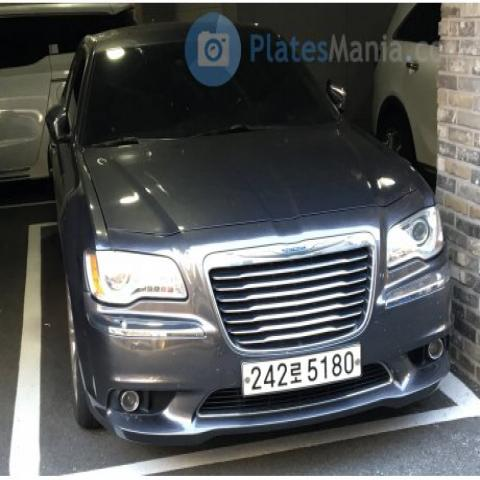LP: (235, 336, 367, 410)
